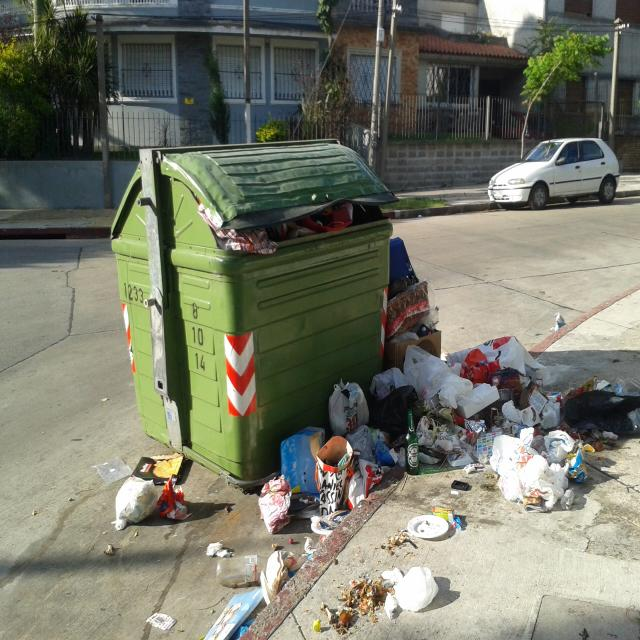garbage: (268, 334, 640, 509), (379, 236, 443, 365), (108, 453, 192, 528), (343, 559, 443, 621), (202, 543, 295, 607), (227, 205, 389, 237), (396, 500, 468, 545)
